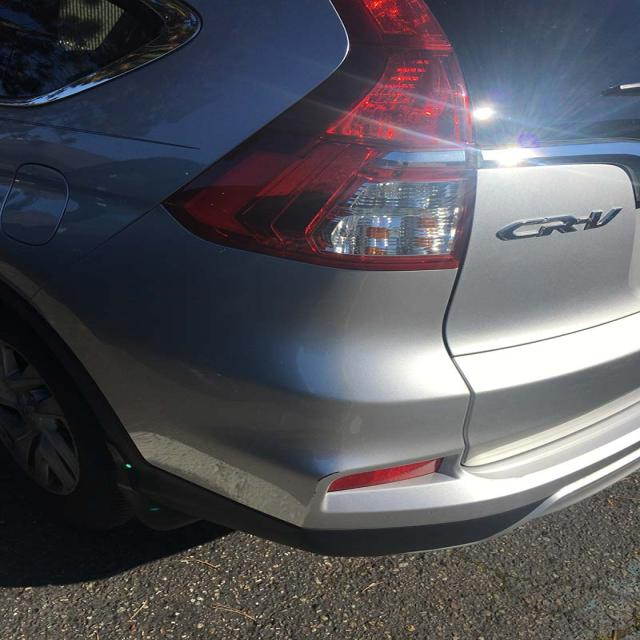scratch: (316, 469, 342, 482)
